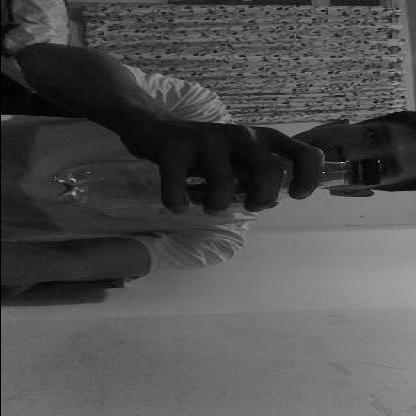plastic_bottles: (54, 158, 380, 211)
